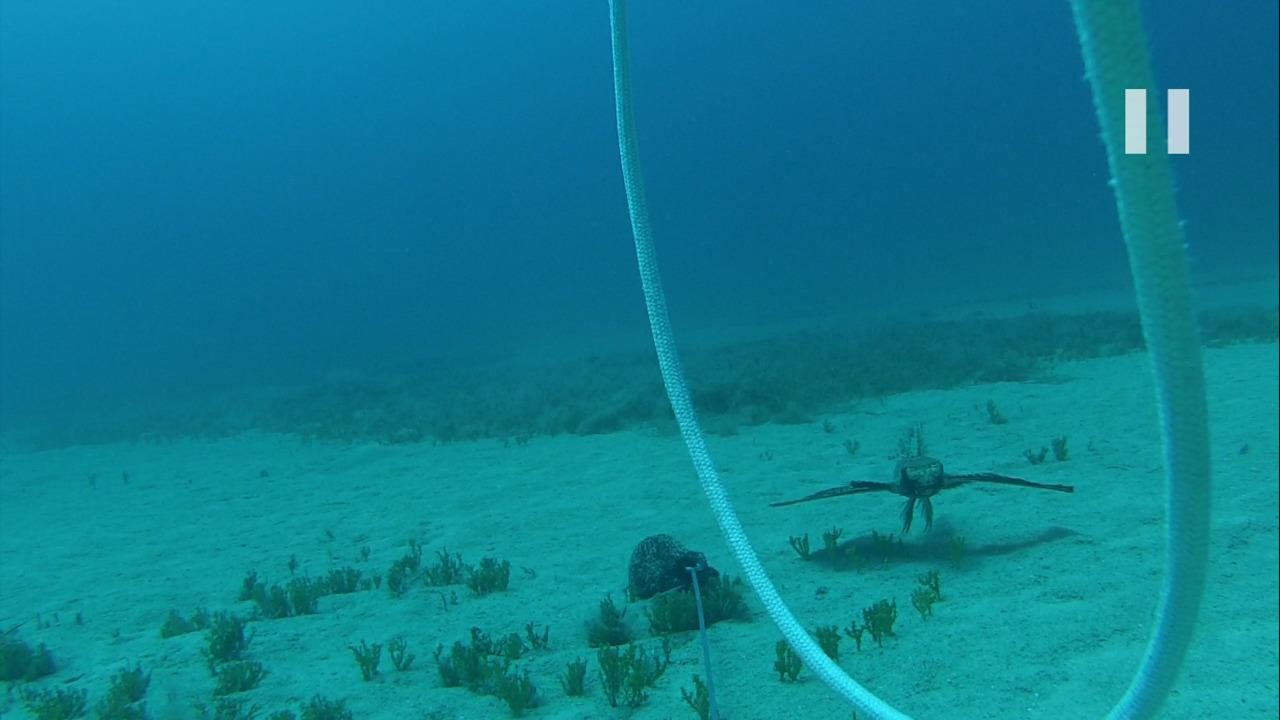dactylopterus: (789, 421, 1077, 524)
